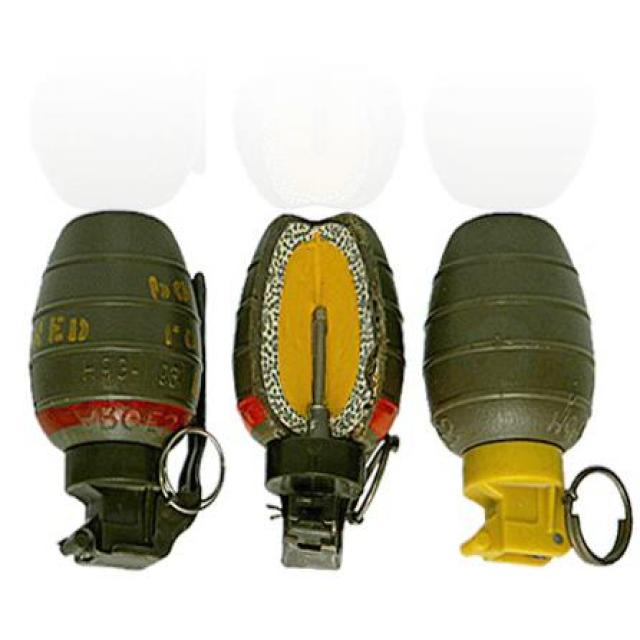grenade: (423, 212, 634, 570), (30, 209, 229, 573), (231, 213, 408, 573)
